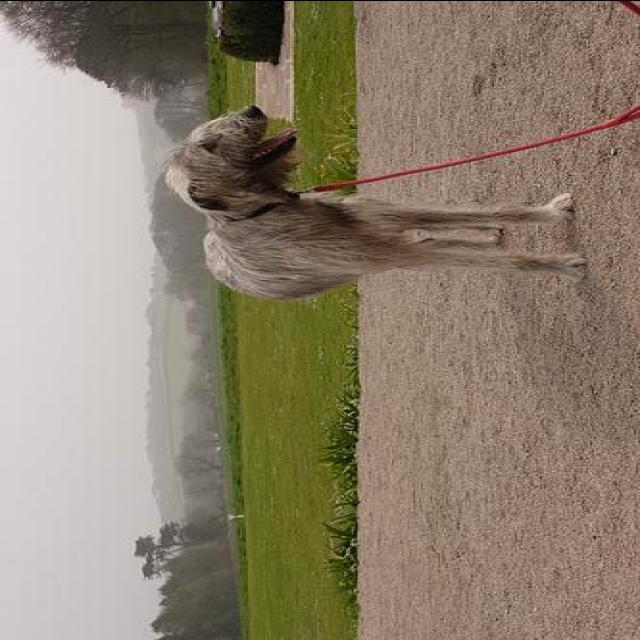irish_wolfhound: (158, 102, 596, 302)
